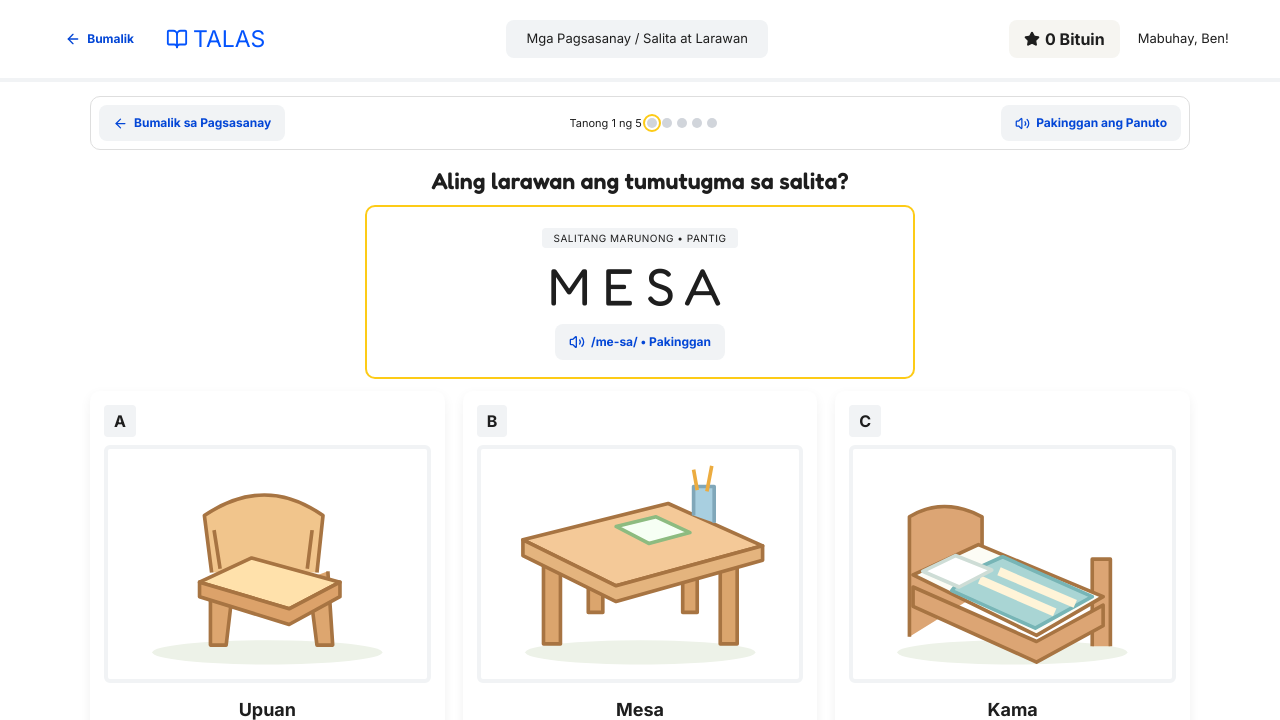
Test: picture practice › loads only the current learner rewards and offers native playback after a rejected play request
Check: the text "0 Bituin" is shown, box [1009,20,1120,58]
Click the button "Pakinggan ang Panuto". click: click(1091, 123)
box: [1001,105,1181,141]
(page scrolled)
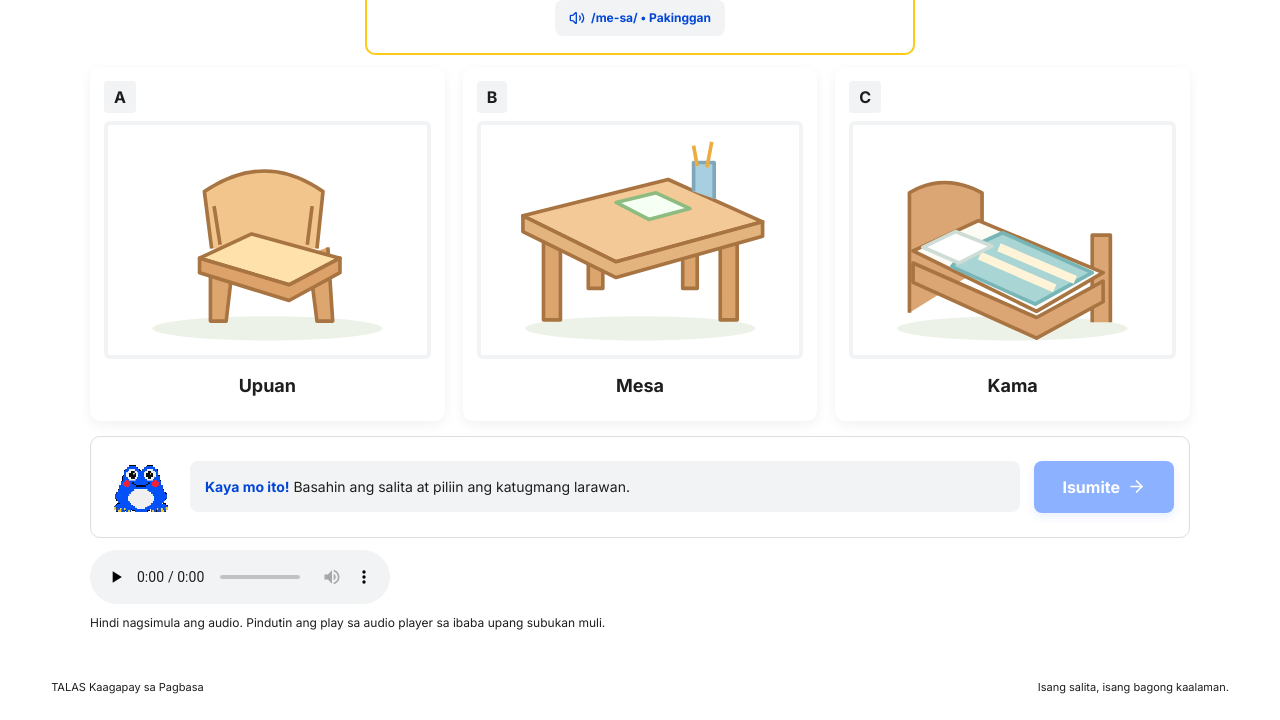
Check: the message shows "Pindutin ang play", box [90,615,605,630]
Check: the element named "Audio sa Filipino" is shown, box [90,550,390,604]
